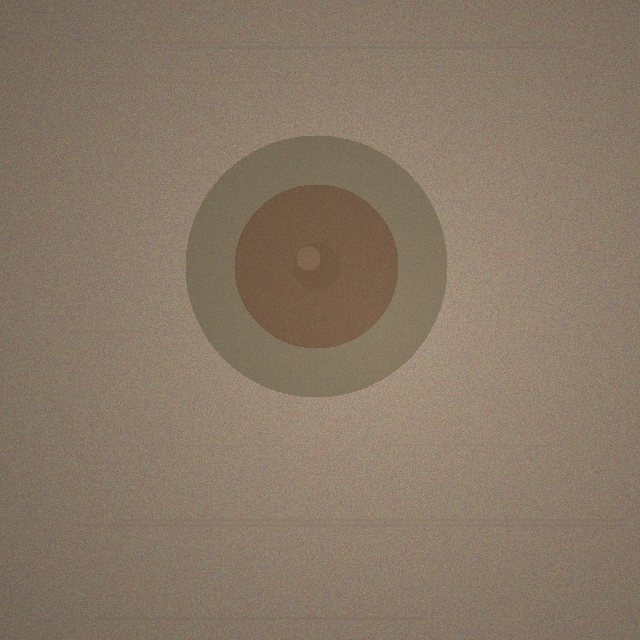good: (185, 135, 447, 397)
